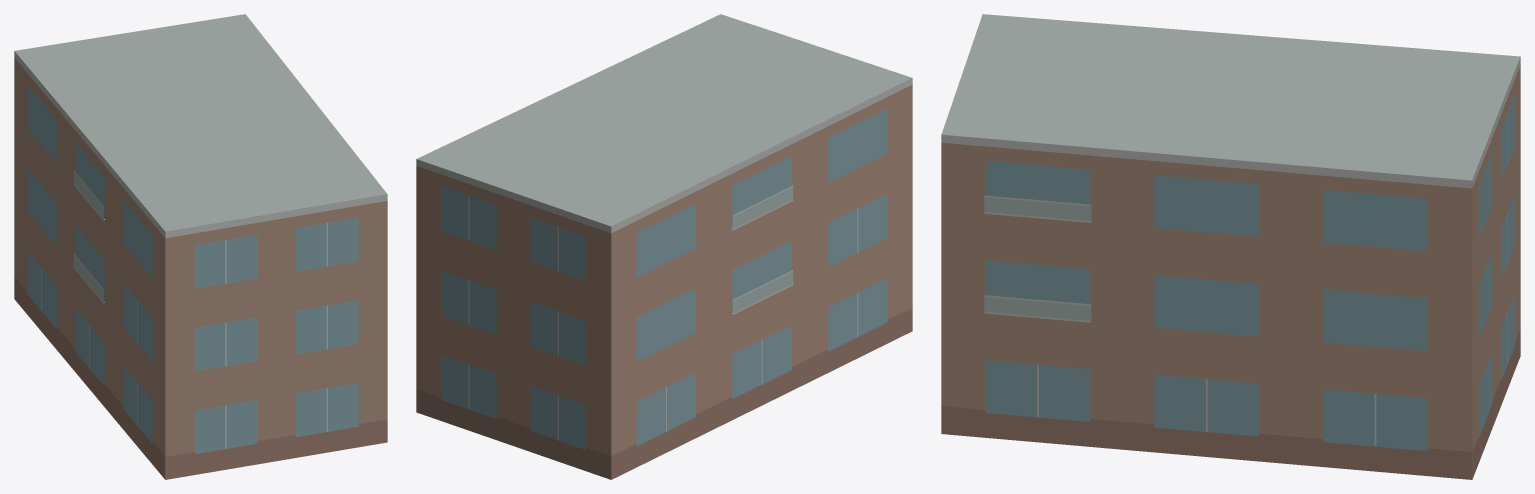
The model's file is survey-upis-32706999.glb.
The picture shows the model from 3 angles, left to right: view 1: azimuth 30°, elevation 25°; view 2: azimuth 150°, elevation 25°; view 3: azimuth 270°, elevation 25°; orthographic projection. The views are drawn at different scales.
Visible parts, largest first — view 1: survey-upis-32706999.tmp; view 2: survey-upis-32706999.tmp; view 3: survey-upis-32706999.tmp.
Boxes of the visible parts, x1,y1,x2,y2 form: survey-upis-32706999.tmp: (14, 14, 387, 479); survey-upis-32706999.tmp: (416, 14, 912, 479); survey-upis-32706999.tmp: (941, 14, 1520, 479).
Bounding box in the file's own units: 10.93 × 9.15 × 16.06.
